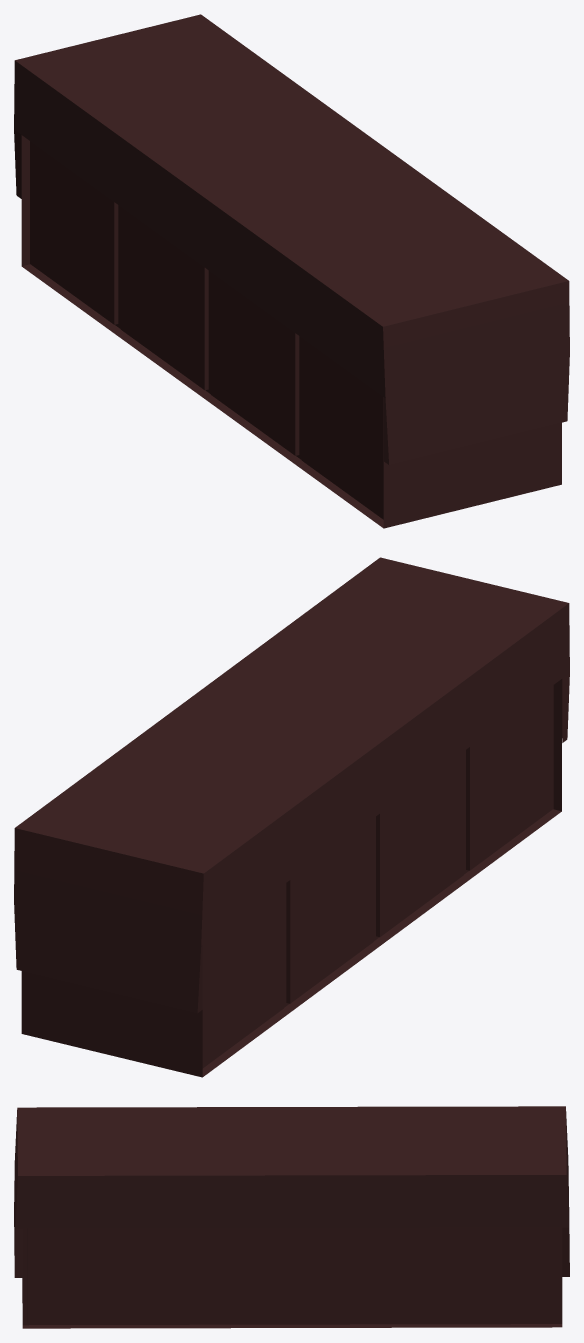
File: Table 1_resized.FBX
3 renders of one model, top to bottom at view 1: azimuth 30°, elevation 25°; view 2: azimuth 150°, elevation 25°; view 3: azimuth 270°, elevation 25°, orthographic. The views are drawn at different scales.
Parts seen in each view (by area): view 1: Table 01; view 2: Table 01; view 3: Table 01.
Boxes of the visible parts, x1,y1,x2,y2 form: Table 01: (14,14,569,528); Table 01: (14,557,569,1077); Table 01: (14,1106,569,1328).
Bounding box in the file's own units: 1.01 × 1.05 × 3.43.
